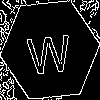W: (25, 25, 73, 76)
